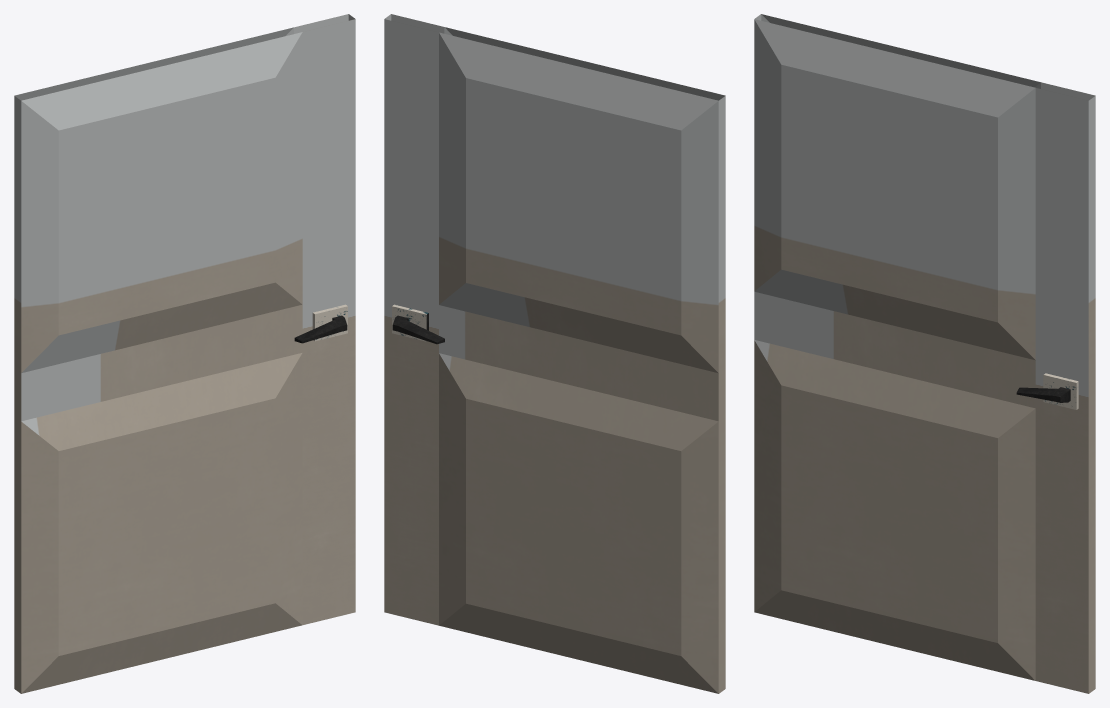
The model's file is Door.fbx.
The picture shows the model from 3 angles, left to right: view 1: azimuth 30°, elevation 25°; view 2: azimuth 150°, elevation 25°; view 3: azimuth 330°, elevation 25°; orthographic projection.
Parts seen in each view (by area): view 1: Door; view 2: Door; view 3: Door.
Part boxes in pixels (bbox=[...]): Door: bbox=[14, 14, 355, 693]; Door: bbox=[384, 14, 725, 693]; Door: bbox=[754, 14, 1095, 693].
Size of the model in its own units: 175 by 297 by 24.77.
